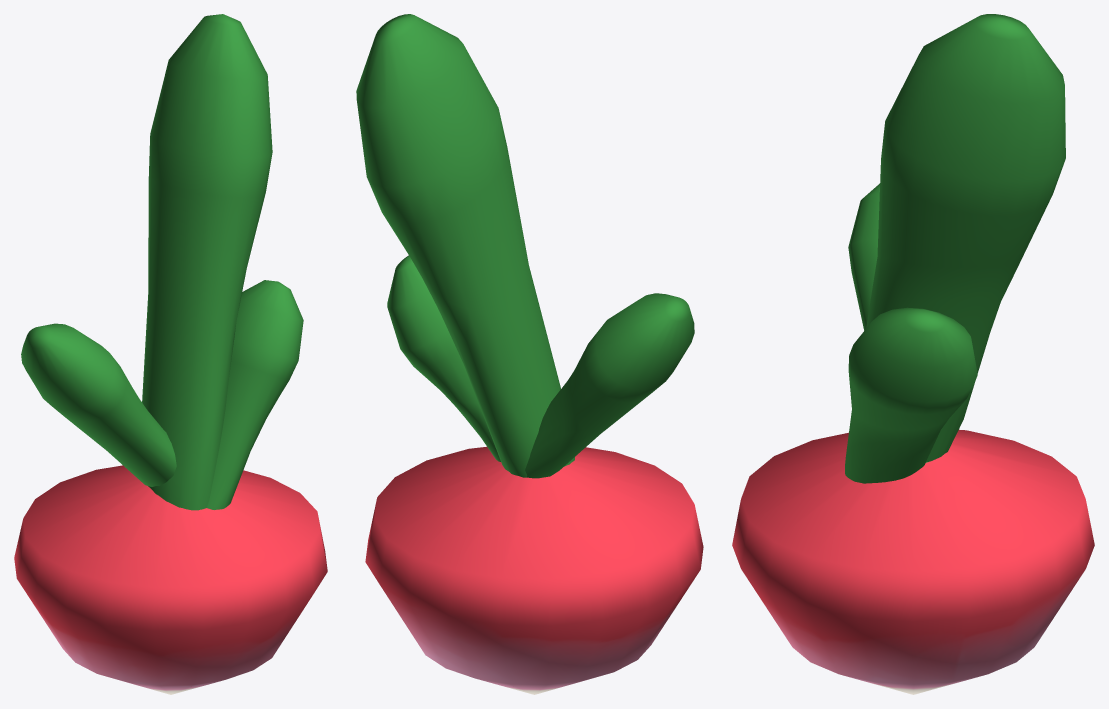
File: raddish.fbx
The picture shows the model from 3 angles, left to right: view 1: azimuth 30°, elevation 25°; view 2: azimuth 150°, elevation 25°; view 3: azimuth 270°, elevation 25°; orthographic projection. The views are drawn at different scales.
Visible parts, largest first — view 1: pasted__pSphere1; view 2: pasted__pSphere1; view 3: pasted__pSphere1.
Boxes of the visible parts, bbox=[...] form: pasted__pSphere1: bbox=[14, 14, 327, 694]; pasted__pSphere1: bbox=[356, 14, 703, 694]; pasted__pSphere1: bbox=[732, 14, 1094, 694].
Size of the model in its own units: 3.23 by 7.02 by 3.18.
